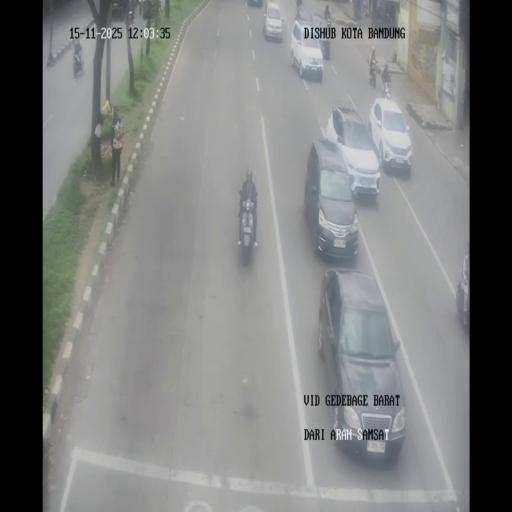3: (112, 0, 126, 20)
car: (318, 269, 403, 457), (304, 140, 358, 262), (369, 98, 412, 174), (290, 17, 324, 80), (456, 241, 469, 336), (263, 2, 283, 40)
truck: (237, 190, 258, 262), (73, 47, 83, 77), (381, 73, 391, 99), (368, 62, 377, 88), (376, 4, 384, 22), (384, 10, 392, 27), (128, 6, 134, 25), (296, 0, 302, 17), (324, 11, 330, 26)
